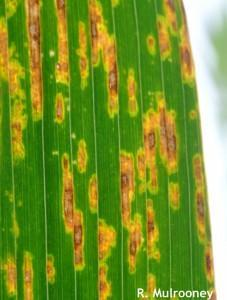Gray_Leaf_Spot: (0, 0, 27, 160), (190, 151, 217, 300), (119, 149, 181, 209), (154, 0, 198, 82), (95, 0, 124, 119), (49, 0, 75, 127), (121, 208, 163, 274), (26, 0, 46, 124), (0, 191, 21, 300), (75, 0, 95, 96), (96, 216, 118, 300), (141, 110, 180, 149), (70, 208, 89, 273), (59, 152, 74, 233), (21, 246, 40, 300), (125, 65, 139, 120), (88, 170, 100, 217), (76, 137, 90, 176), (138, 274, 159, 300), (43, 251, 57, 287), (145, 91, 169, 110), (146, 27, 156, 58), (190, 101, 203, 124), (169, 290, 181, 300), (50, 148, 59, 159), (68, 129, 78, 138)
